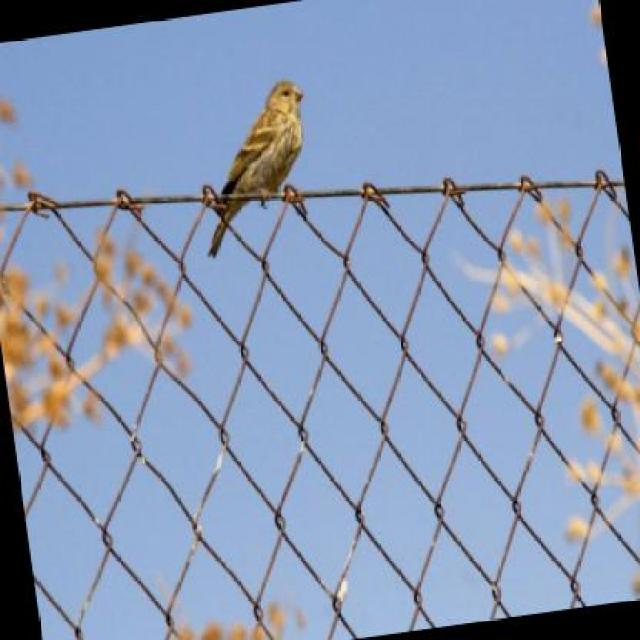Bird: (205, 77, 309, 259)
